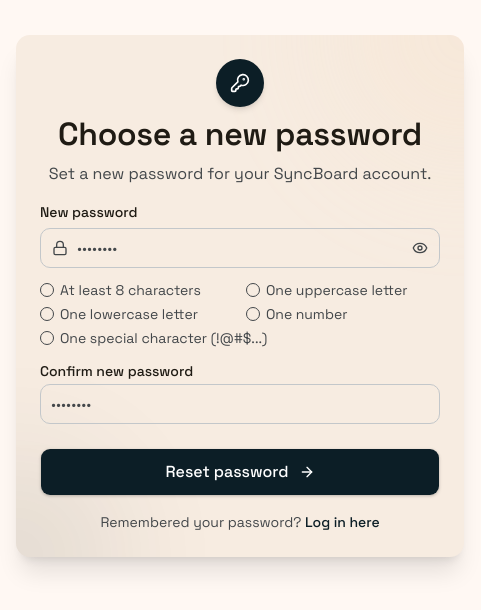
ResetPasswordPage › shows a validation error for a password missing a digit
Step 1. Type "onlyletters" into the password field labelled "New password" → (240, 248), box [40, 228, 440, 268]
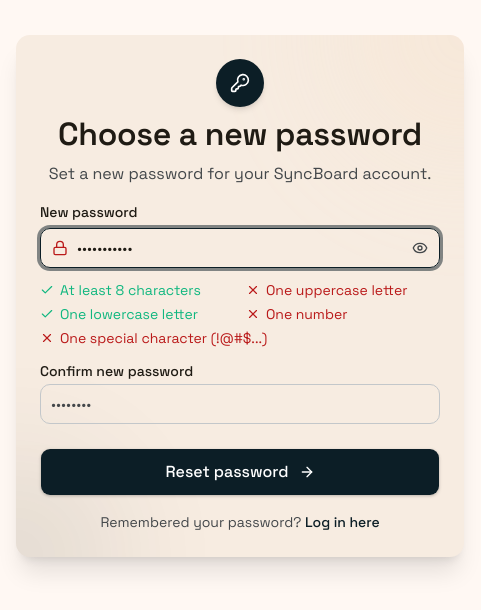
Step 2. Type "onlyletters" into the password field labelled "Confirm new password" → (240, 404), box [40, 384, 440, 424]
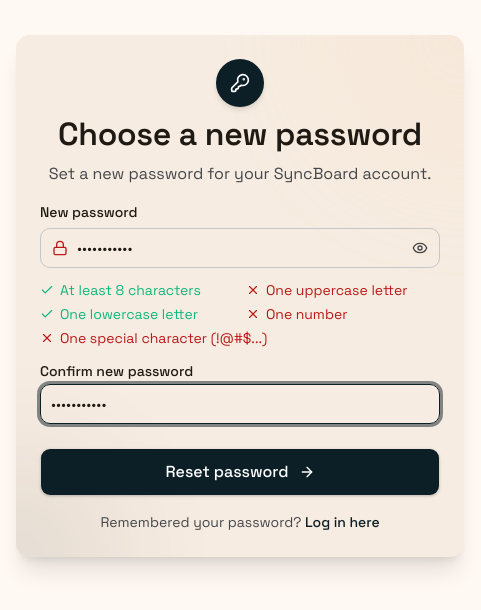
Step 3. Click the button "Reset password" → (240, 472), box [40, 448, 440, 496]
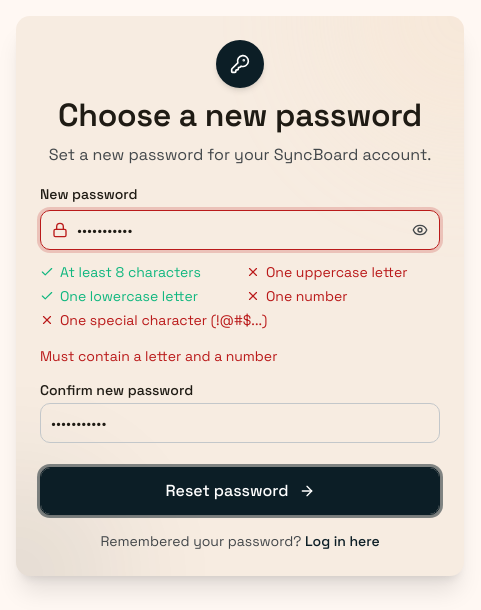
expect the text "Must contain a letter and a number" is shown: met, box [40, 347, 277, 365]
